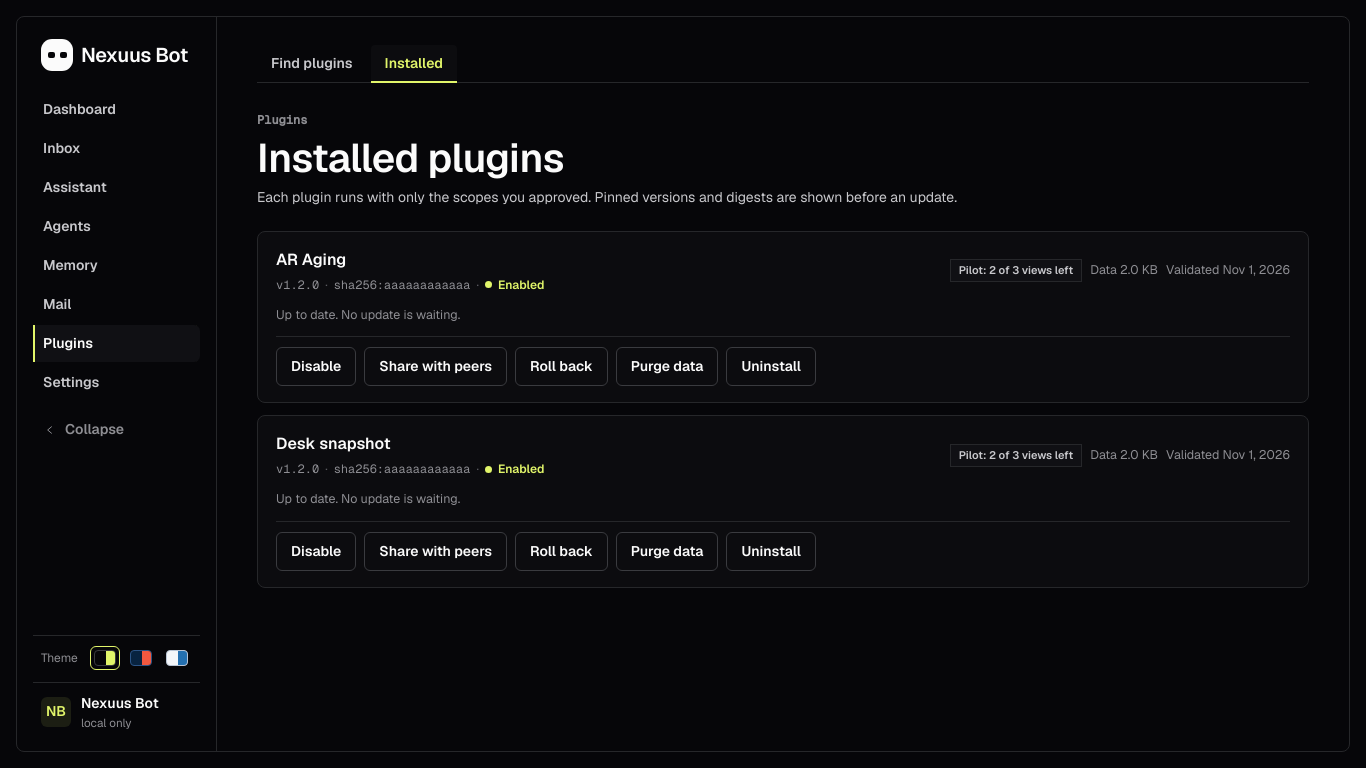
it: the review defects › M2: keeps every row inert while any installed action is in flight
This screenshot has width=1366, height=768.
Later steps or results of the test are not shown.
expect the heading "AR Aging" is shown: met, box [276,249,346,270]
Click the button "Disable" below "AR Aging". click: (316, 367)
box: [276,347,356,386]
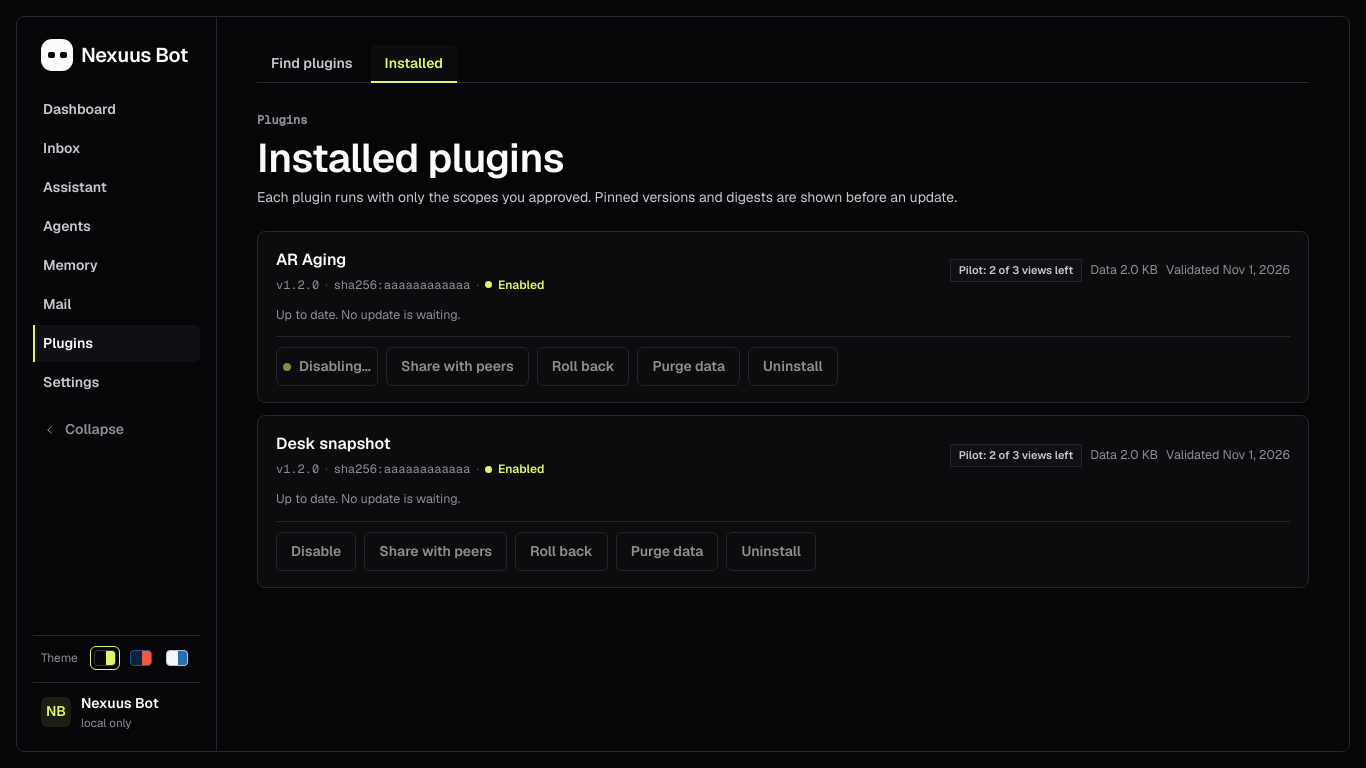
expect the button "Disabling…" is shown: met, box [276,347,378,386]
expect the button "Disable" is disabled: met
Click the button "Disable". click: (316, 552)
box: [276,532,356,571]
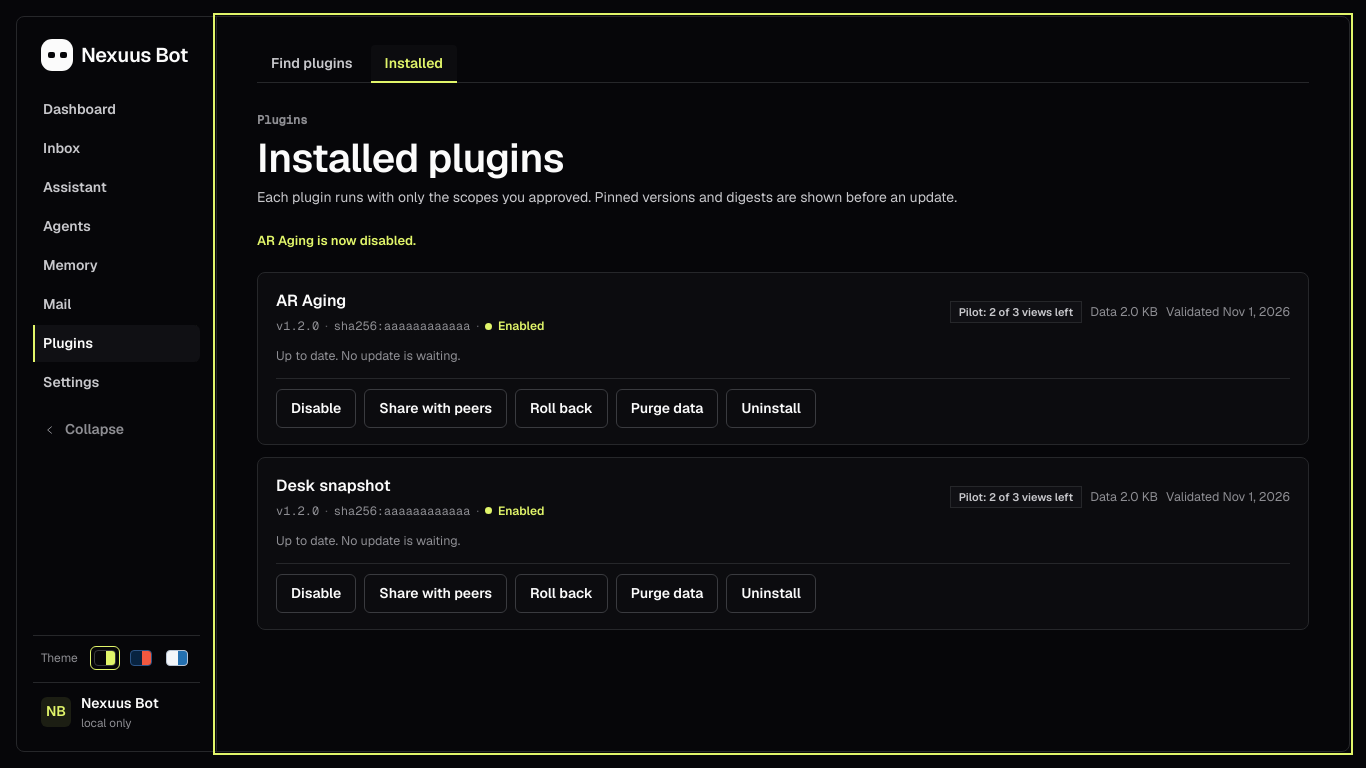
expect the text "AR Aging is now disabled." is shown: met, box [257,232,416,249]
